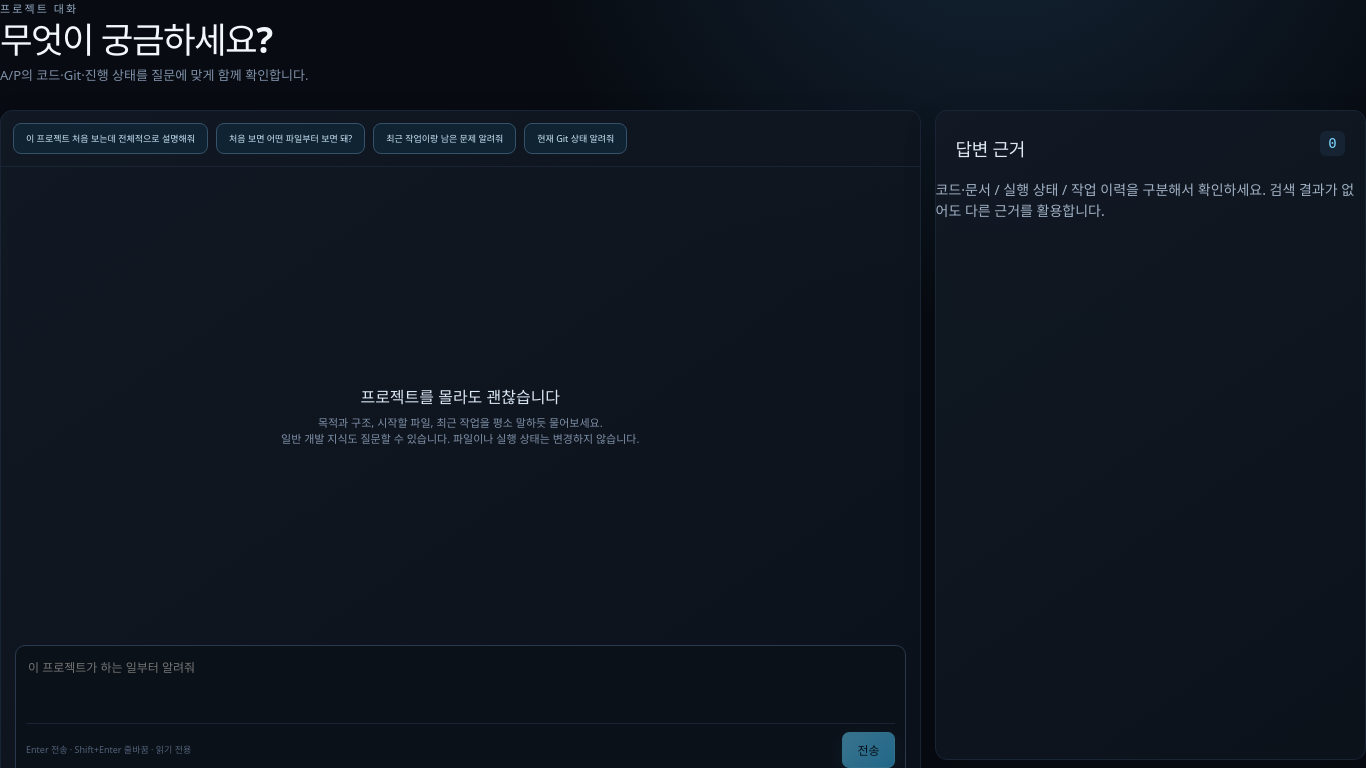
Test case: shows incomplete generation as failure rather than success
In the text box named "채팅 질문": [460, 687] box x1=26 y1=656 x2=894 y2=718, type "소개"
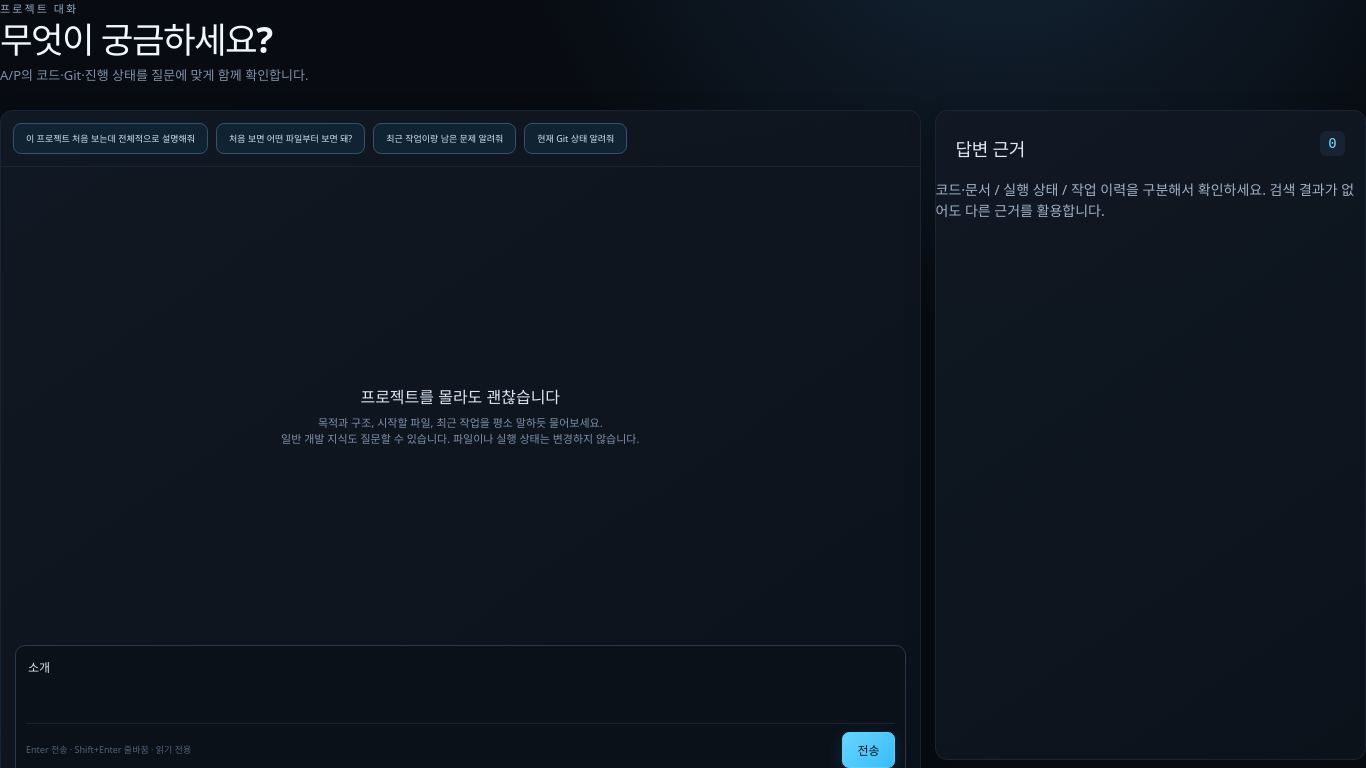
Click the button "전송": [868, 750] box x1=842 y1=732 x2=894 y2=767
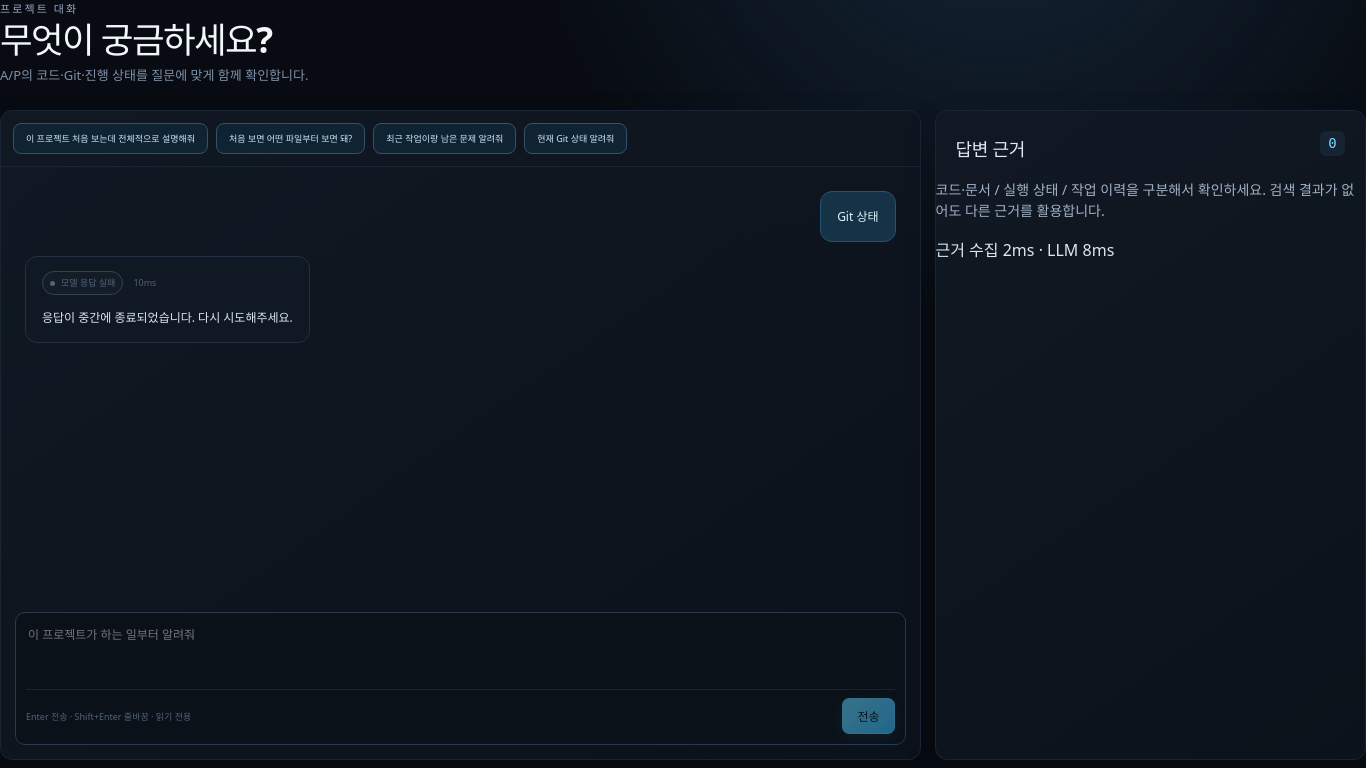
Expected: the text "응답이 중간에 종료되었습니다. 다시 시도해주세요." is shown, x1=42 y1=307 x2=293 y2=328
Expected: the text "모델 응답 실패" is shown, x1=42 y1=271 x2=123 y2=295
